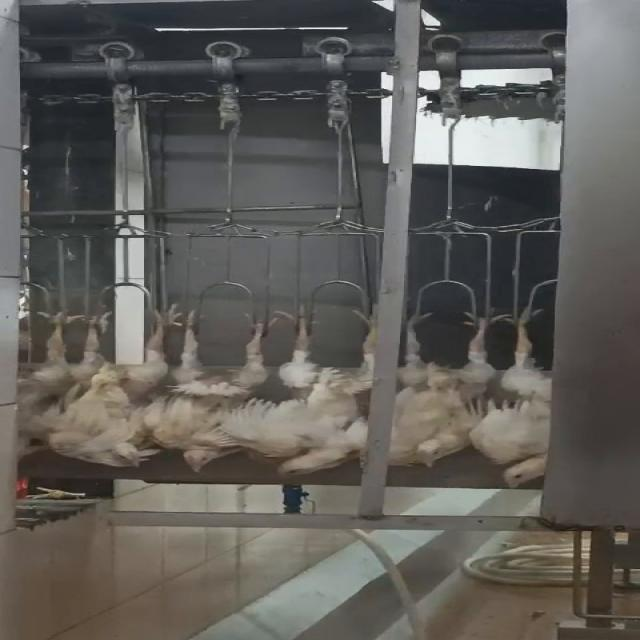chicken: (372, 301, 509, 466), (48, 307, 181, 470), (267, 304, 376, 486), (169, 306, 283, 480), (471, 298, 560, 492), (3, 307, 94, 464)
